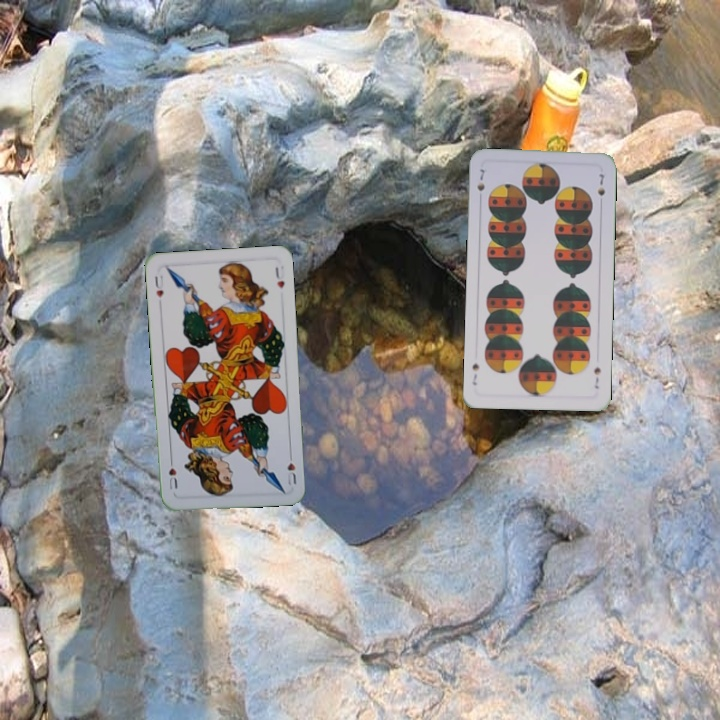HU: (282, 448, 299, 488), (150, 271, 166, 300)
S7: (473, 164, 489, 194), (590, 362, 603, 391)
